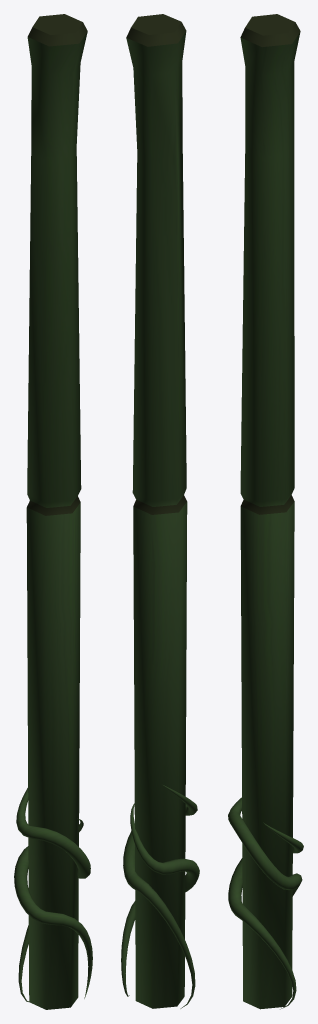
The model's file is Vine Plant.fbx.
3 views of the same model, side by side, from view 1: azimuth 30°, elevation 25°; view 2: azimuth 210°, elevation 25°; view 3: azimuth 330°, elevation 25° (orthographic).
Visible parts, largest first — view 1: Phase 4 Bamboo 4, BezierCurve.001, BezierCurve; view 2: Phase 4 Bamboo 4, BezierCurve, BezierCurve.001; view 3: Phase 4 Bamboo 4, BezierCurve.001, BezierCurve.
Part boxes in pixels (bbox=[...]): Phase 4 Bamboo 4: bbox=[26, 14, 87, 1009]; BezierCurve.001: bbox=[14, 818, 92, 998]; BezierCurve: bbox=[16, 788, 90, 1001]; Phase 4 Bamboo 4: bbox=[126, 14, 187, 1008]; BezierCurve: bbox=[123, 784, 197, 1008]; BezierCurve.001: bbox=[121, 803, 199, 996]; Phase 4 Bamboo 4: bbox=[240, 14, 300, 1009]; BezierCurve.001: bbox=[228, 822, 303, 1009]; BezierCurve: bbox=[228, 797, 302, 896].
Size of the model in its own units: 40.29 by 547 by 37.45.
